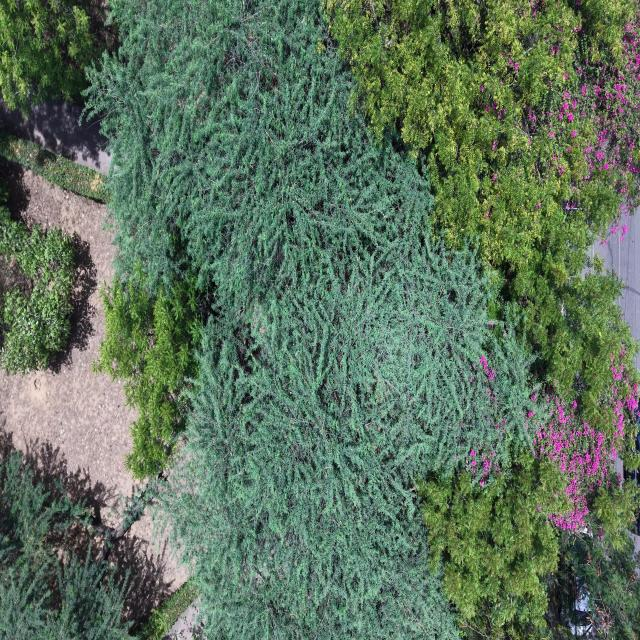DRY_AREA: (0, 161, 135, 524), (0, 99, 111, 174)
VEGETATION_TREE: (86, 0, 638, 639), (90, 2, 545, 638), (91, 3, 532, 472), (324, 0, 639, 544), (165, 200, 529, 638), (325, 0, 639, 427), (419, 359, 637, 638), (89, 7, 279, 293), (419, 452, 567, 638), (0, 451, 130, 639), (93, 269, 201, 479), (527, 256, 639, 435), (534, 359, 638, 533), (0, 206, 75, 374), (0, 0, 105, 113), (548, 532, 639, 639), (0, 131, 108, 202), (94, 476, 164, 561), (137, 582, 198, 639)
